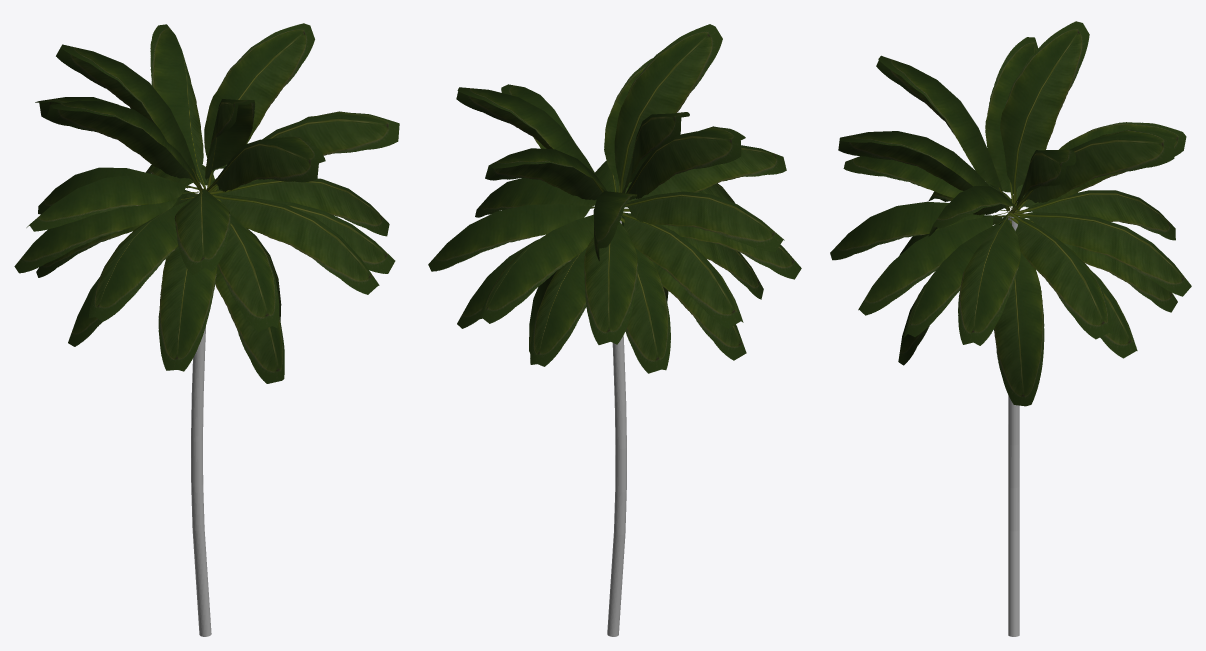
File: SM_tree_02.glb
The picture shows the model from 3 angles, left to right: view 1: azimuth 30°, elevation 25°; view 2: azimuth 150°, elevation 25°; view 3: azimuth 270°, elevation 25°; orthographic projection. The views are drawn at different scales.
Visible parts, largest first — view 1: SM_tree_02; view 2: SM_tree_02; view 3: SM_tree_02.
Boxes of the visible parts, left/top/right/bottom form: SM_tree_02: left=14, top=23, right=399, bottom=636; SM_tree_02: left=428, top=24, right=801, bottom=636; SM_tree_02: left=830, top=21, right=1191, bottom=636.
Bounding box in the file's own units: 6.98 × 11.34 × 6.61.
Materials: 2 (1 with a texture image).
